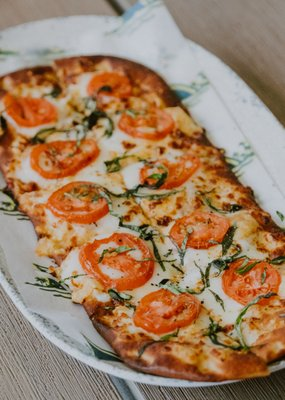curry: (0, 1, 285, 368)
sandwich: (0, 54, 285, 390)
